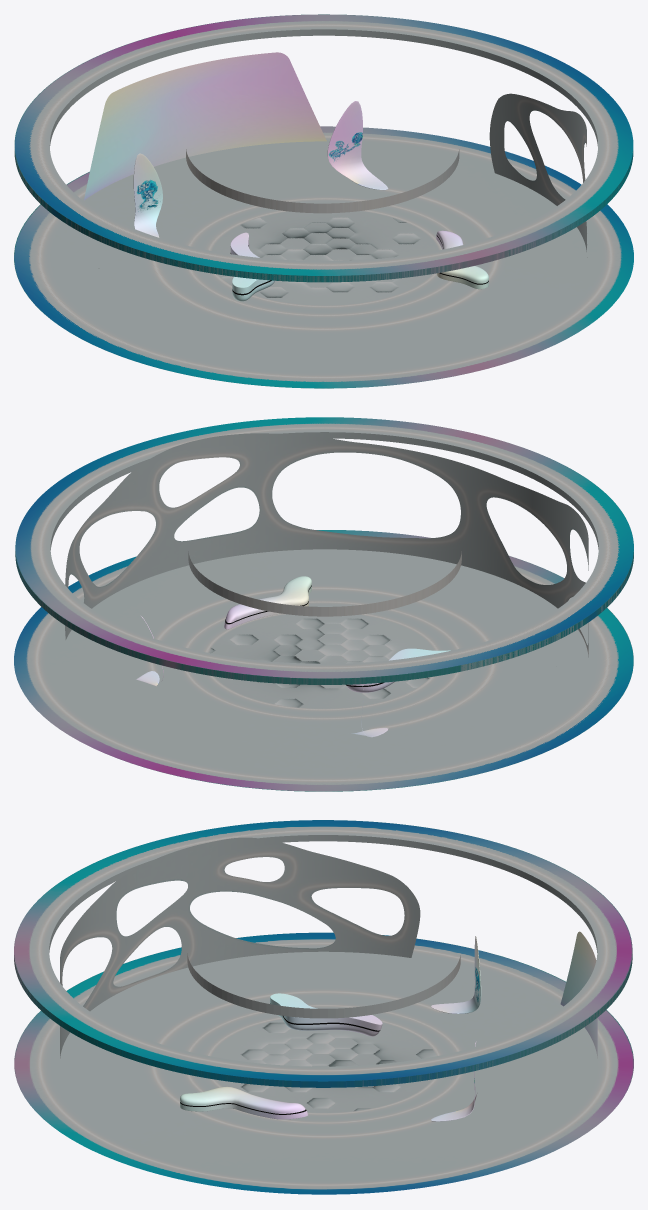
3 renders of one model, top to bottom at view 1: azimuth 30°, elevation 25°; view 2: azimuth 150°, elevation 25°; view 3: azimuth 270°, elevation 25°, orthographic.
Visible parts, largest first — view 1: Group128 [194518]001, Group1 [43553]001, Object001, Plane012, Group128 [194518]002, Object003, Box002, Plane014, Plane011; view 2: Group128 [194518]001, Group1 [43553]001, Plane012, Group128 [194518]002, Plane014, Plane011; view 3: Group128 [194518]001, Group1 [43553]001, Plane012, Group128 [194518]002, Plane014, Plane011, Object001, Box002.
Part boxes in pixels (x1,y1,x2,y2): Group128 [194518]001: (14, 126, 633, 388); Group1 [43553]001: (14, 14, 633, 282); Object001: (84, 52, 326, 200); Plane012: (489, 93, 587, 257); Group128 [194518]002: (186, 149, 459, 213); Object003: (327, 101, 388, 190); Box002: (133, 153, 162, 237); Plane014: (436, 230, 488, 289); Plane011: (230, 232, 274, 301); Group128 [194518]001: (14, 530, 633, 791); Group1 [43553]001: (15, 417, 633, 684); Plane012: (65, 433, 588, 657); Group128 [194518]002: (188, 551, 461, 616); Plane014: (224, 576, 311, 629); Plane011: (346, 648, 450, 692); Group128 [194518]001: (14, 932, 633, 1194); Group1 [43553]001: (14, 820, 632, 1087); Plane012: (60, 837, 420, 1107); Group128 [194518]002: (187, 953, 460, 1018); Plane014: (180, 1086, 307, 1119); Plane011: (270, 993, 382, 1036); Object001: (560, 931, 597, 1058); Box002: (431, 936, 481, 1013).
Size of what is drawn, in the model's own units: 26.64 by 5.81 by 26.51.
5 materials, 4 textured.
